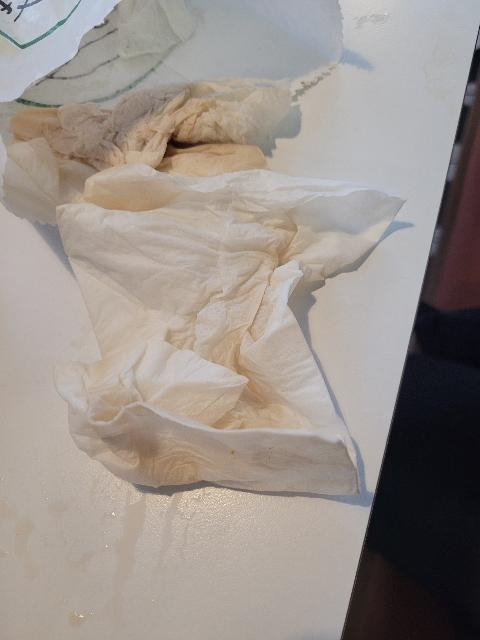Kagit: (56, 191, 375, 519), (12, 107, 283, 192), (0, 0, 137, 98)
